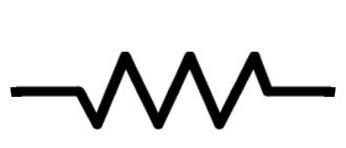resistor: (61, 41, 298, 133)
